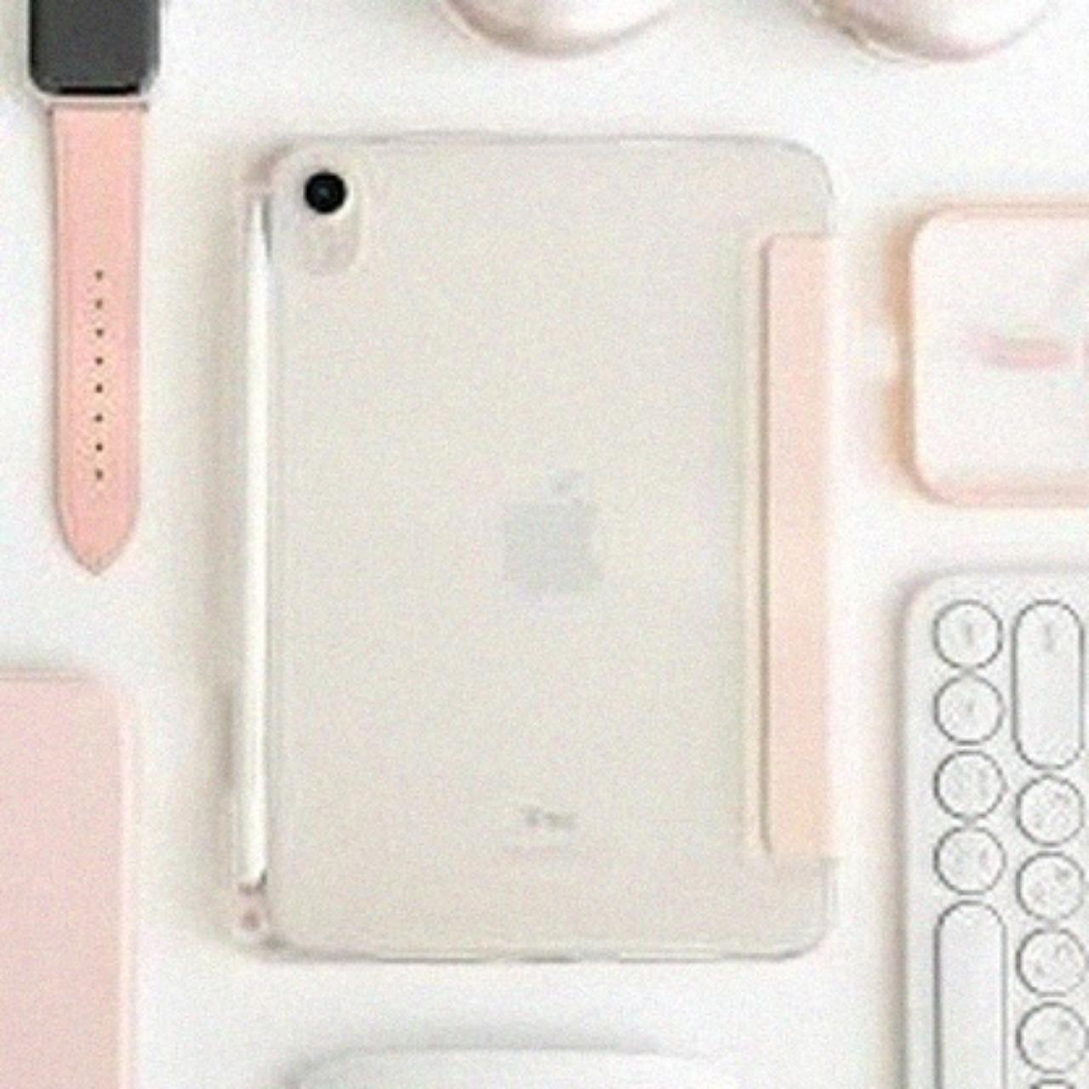Tablet_PC: (220, 115, 835, 979)
